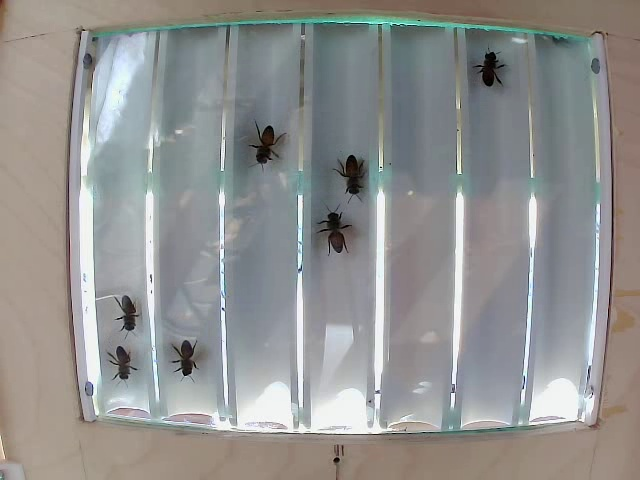bee: (154, 326, 219, 391), (312, 206, 358, 260), (98, 339, 150, 386), (468, 44, 506, 96), (334, 155, 374, 204), (109, 289, 147, 334), (240, 123, 278, 167)
